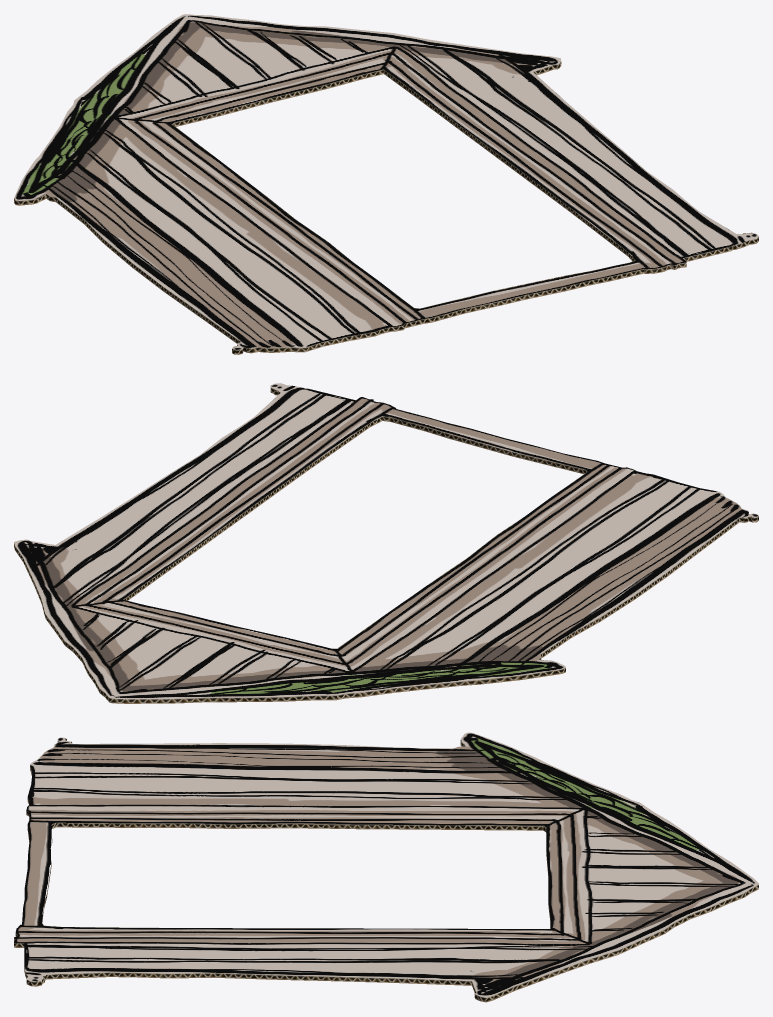
Rendered from shack.fbx.
3 renders of one model, top to bottom at view 1: azimuth 30°, elevation 25°; view 2: azimuth 150°, elevation 25°; view 3: azimuth 270°, elevation 25°, orthographic. The views are drawn at different scales.
Parts seen in each view (by area): view 1: Plane; view 2: Plane; view 3: Plane.
Part boxes in pixels (x1,y1,x2,y2): Plane: [14, 14, 758, 354]; Plane: [14, 383, 758, 703]; Plane: [14, 732, 758, 1002].
Bounding box in the file's own units: 6.16 × 0.05 × 7.31.
